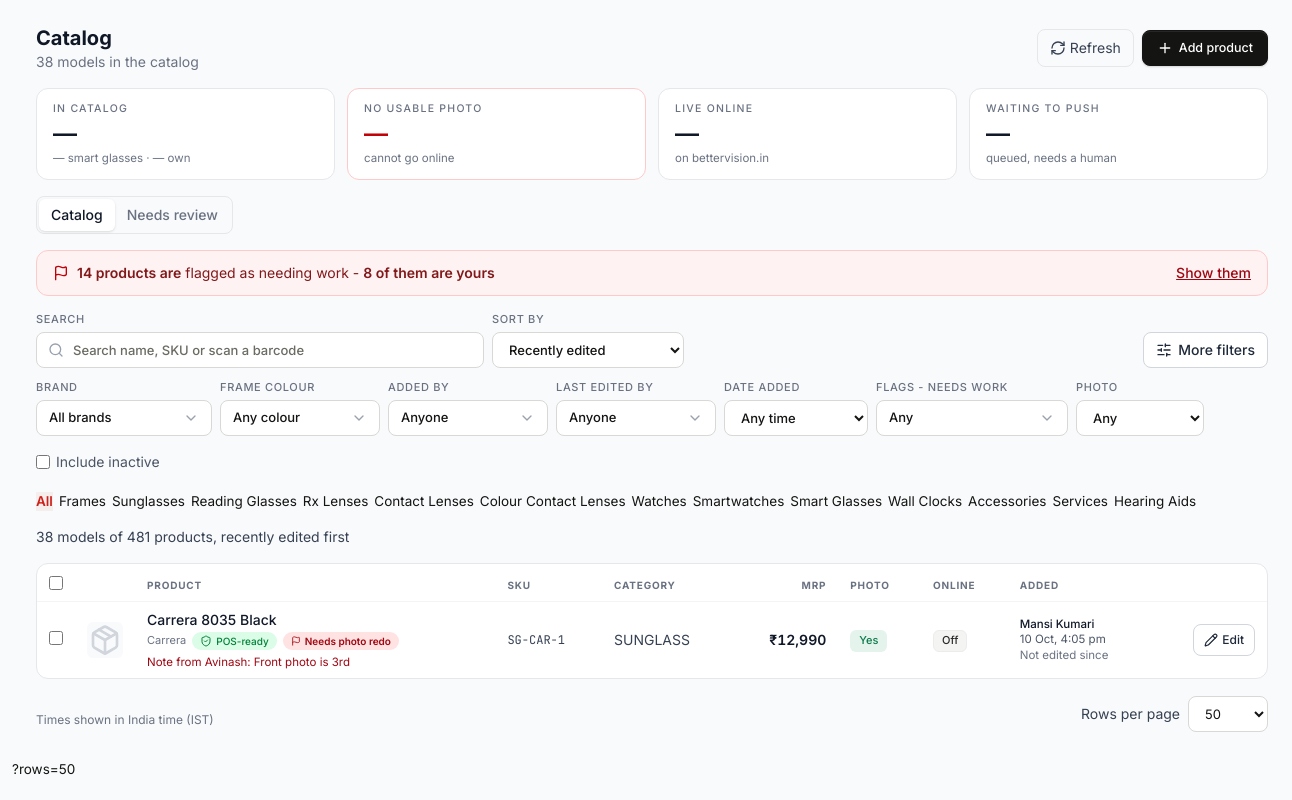
Test: who sees which bulk button › an admin can flag and archive
Expected: the table with test id "catalog-table" is shown, [37, 564, 1267, 678]
Click the checkbox named "Select Carrera 8035 Black" at coordinates (56, 639), box [49, 632, 63, 646]
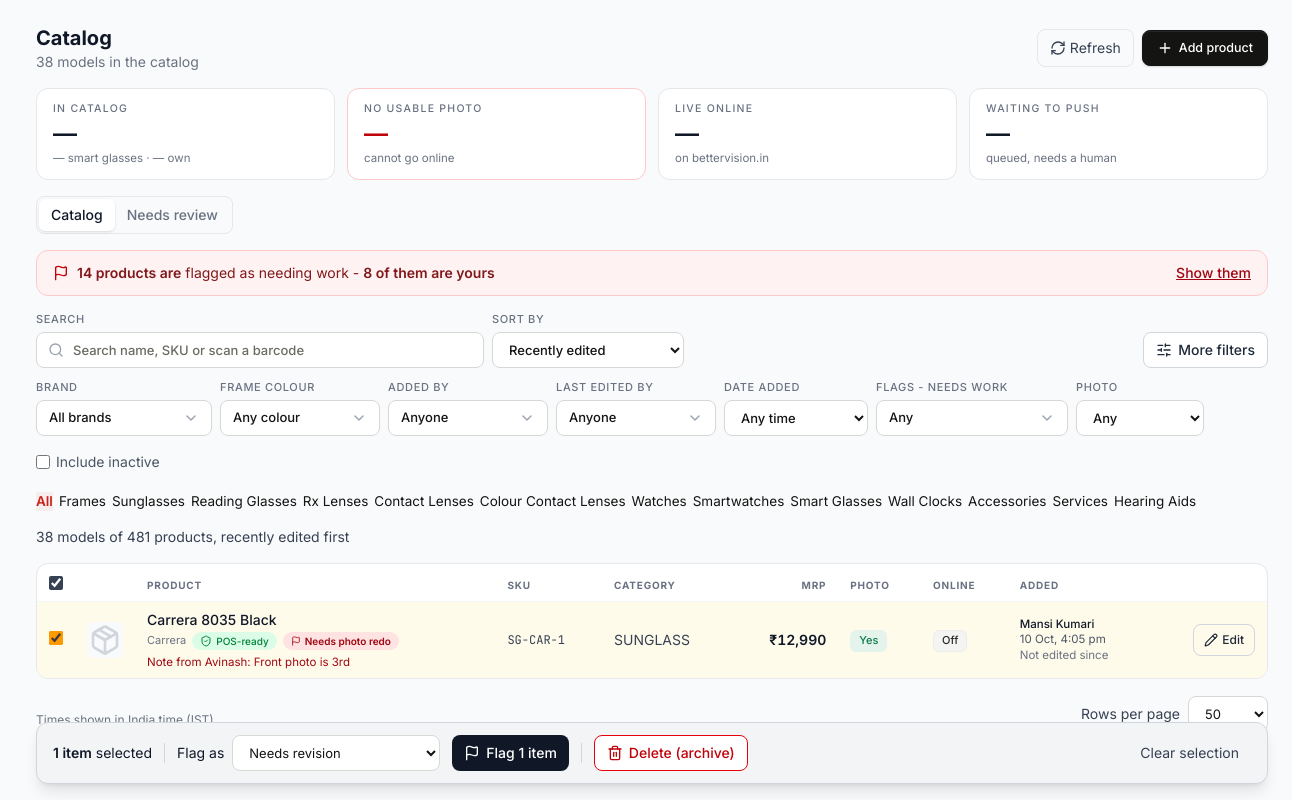
Now the button "Flag 1 item" is shown, box [452, 735, 569, 771]
Now the button "Delete (archive)" is shown, box [594, 735, 748, 771]
